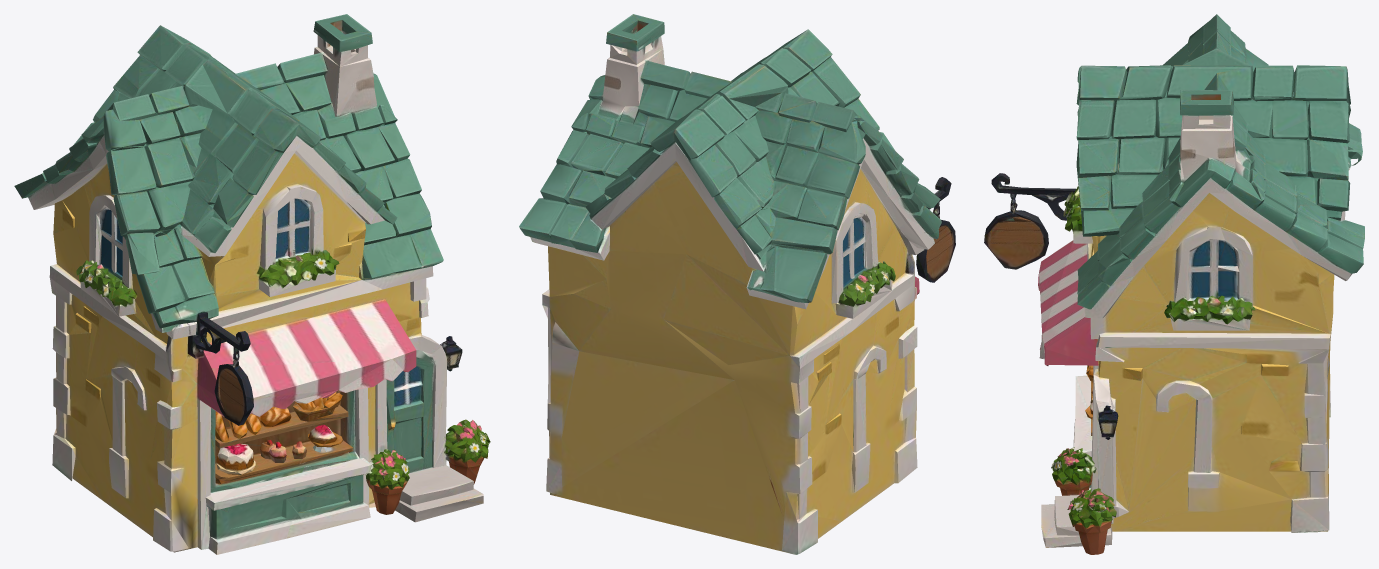
The model's file is town_house_c.glb.
3 renders of one model, left to right at view 1: azimuth 30°, elevation 25°; view 2: azimuth 150°, elevation 25°; view 3: azimuth 270°, elevation 25°, orthographic.
Bounding box in the file's own units: 1.58 × 1.9 × 1.55.
Materials: 1 (1 with a texture image).
